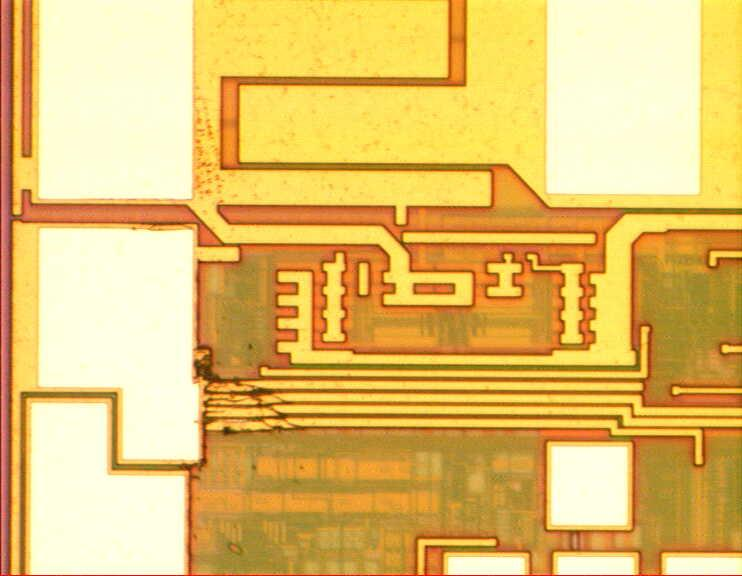SCRATCH: (118, 75, 317, 499)
